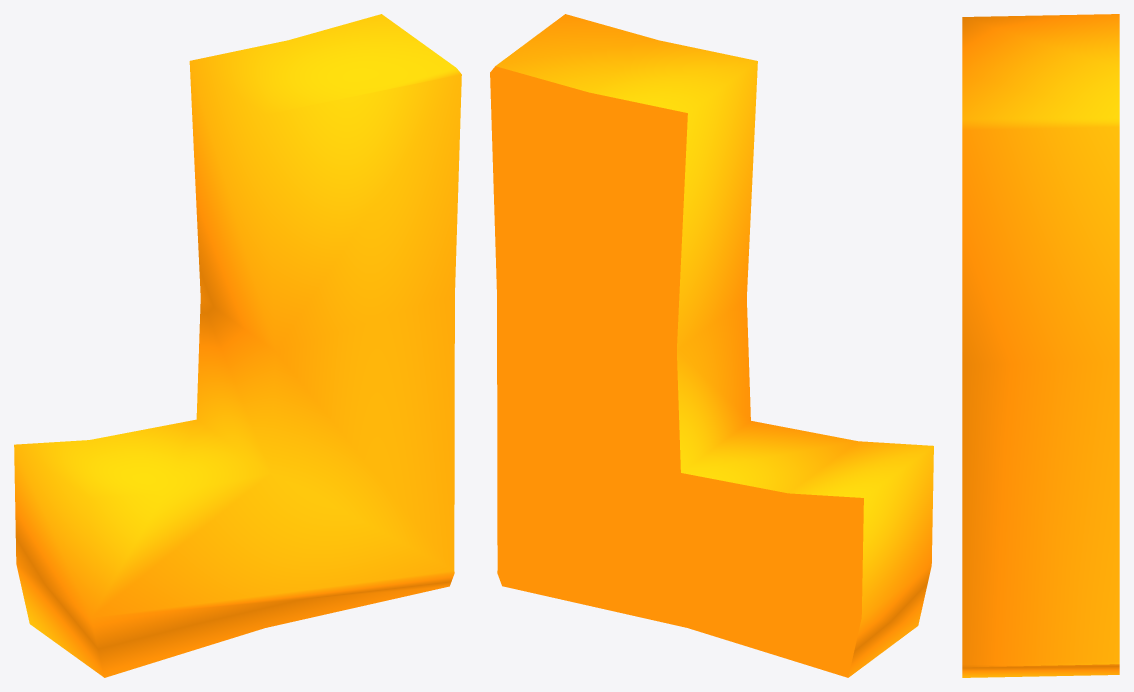
File: orange_l.glb
3 renders of one model, left to right at view 1: azimuth 30°, elevation 25°; view 2: azimuth 150°, elevation 25°; view 3: azimuth 270°, elevation 25°, orthographic. The views are drawn at different scales.
Visible parts, largest first — view 1: Orange_L; view 2: Orange_L; view 3: Orange_L.
Part boxes in pixels (box(x1,y1,x2,y2)): Orange_L: box(14, 14, 461, 677); Orange_L: box(490, 14, 933, 677); Orange_L: box(962, 14, 1119, 677).
Bounding box in the file's own units: 0.3379 × 0.4522 × 0.1128.
1 material, 1 textured.
